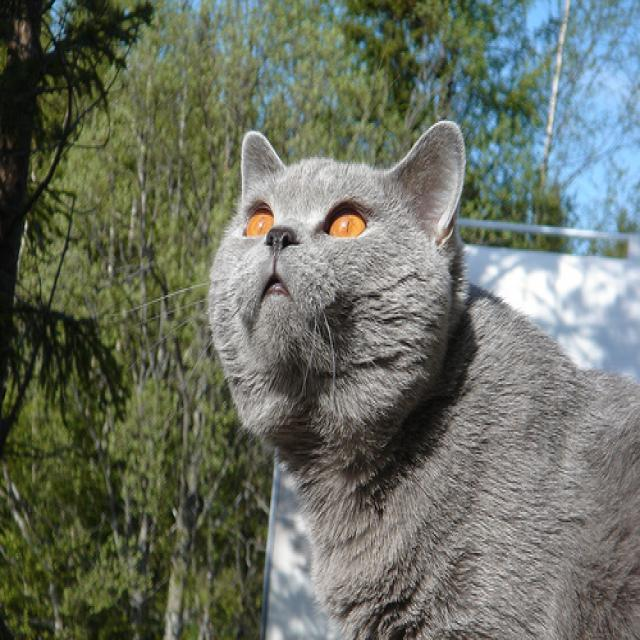British_Shorthair: (206, 118, 463, 370)
